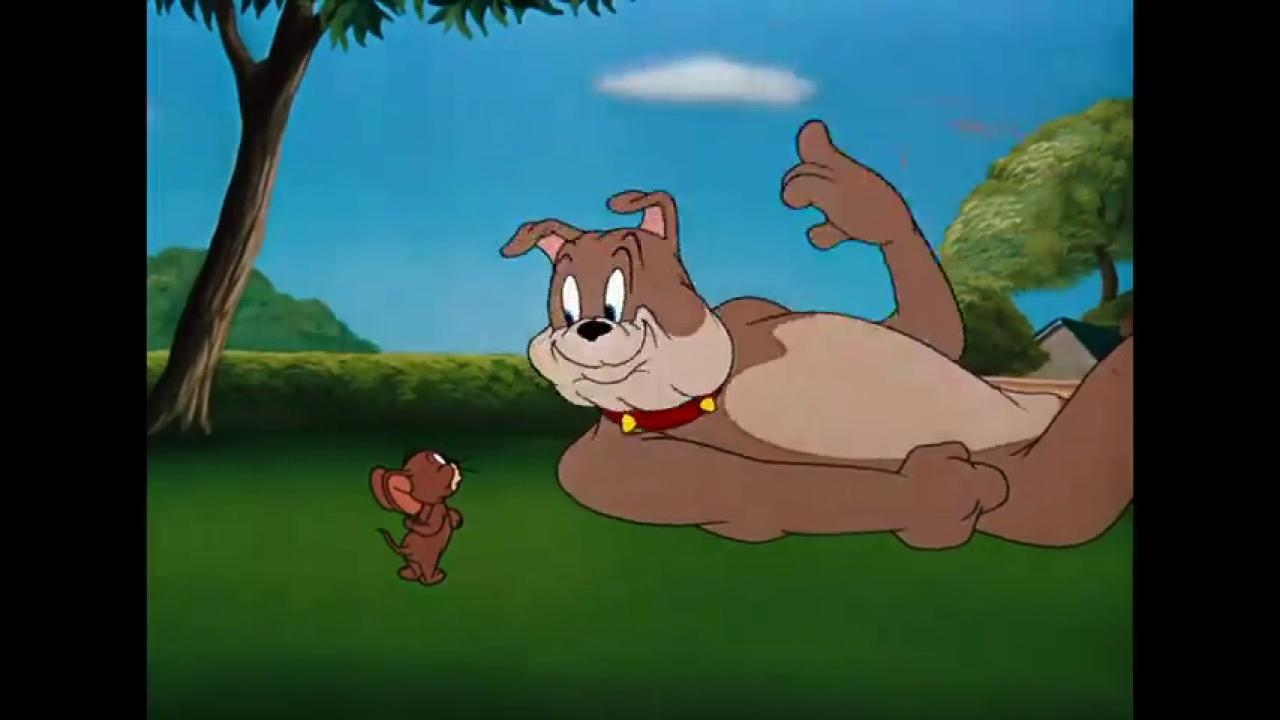Jerry: (368, 446, 482, 586)
